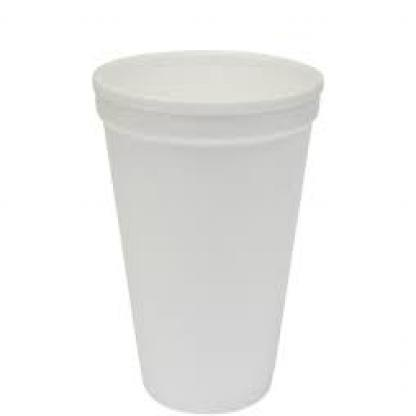trash: (93, 51, 322, 411)
